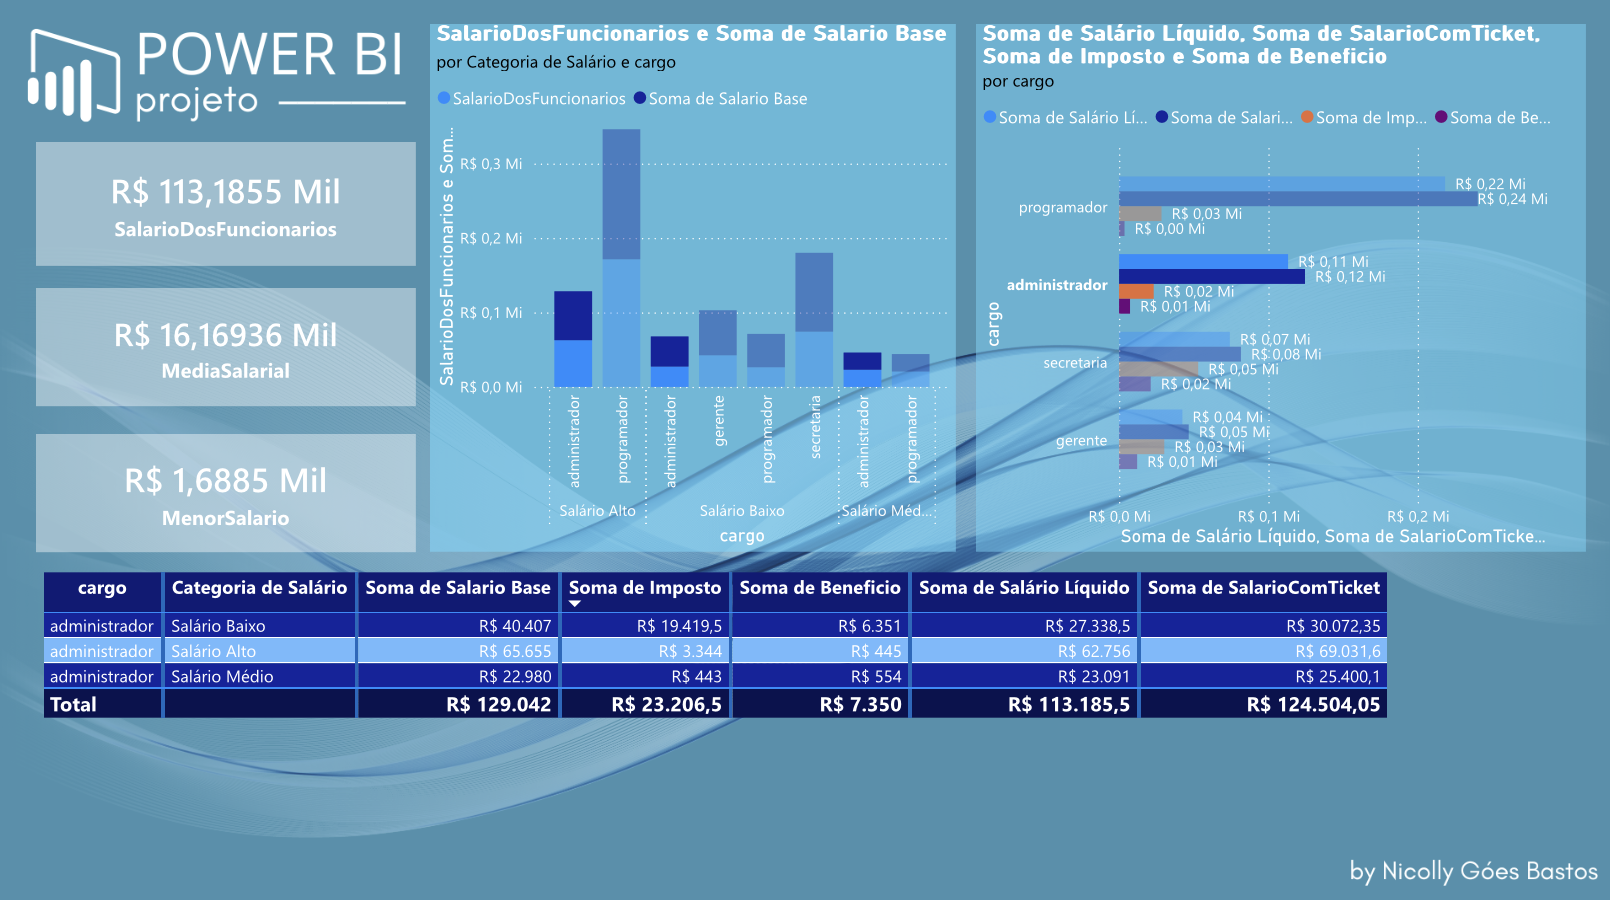

This screenshot's page, from the dashboard's own definition file:
{"tool":"powerbi","page":{"name":"Página 1","canvas":[1280,720],"ordinal":0},"visuals":[{"type":"image","box":[0,0,1280,719.9],"z":0},{"type":"cardVisual","fields":{"Data":["Medidas.SalarioDosFuncionarios"]},"box":[31.6,115.5,300.6,98.1],"z":1000},{"type":"cardVisual","fields":{"Data":["Medidas.MediaSalarial"]},"box":[31.6,231,300.6,93.3],"z":2000},{"type":"cardVisual","fields":{"Data":["Medidas.MenorSalario"]},"box":[31.6,346.5,300.6,93.3],"z":2001},{"type":"columnChart","fields":{"Y":["Medidas.SalarioDosFuncionarios","Sum(FUNCIONARIO.Salario Base)"],"Category":["FUNCIONARIO.Categoria de Salário","FUNCIONARIO.cargo"]},"box":[343.3,22.2,416.1,417.7],"z":2002},{"type":"tableEx","fields":{"Values":["FUNCIONARIO.cargo","FUNCIONARIO.Categoria de Salário","Sum(FUNCIONARIO.Salario Base)","Sum(FUNCIONARIO.Imposto)","Sum(FUNCIONARIO.Beneficio)","Sum(FUNCIONARIO.Salário Líquido)","Sum(FUNCIONARIO.SalarioComTicket)"]},"box":[31.6,450.9,1087,254.7],"z":2003},{"type":"clusteredBarChart","fields":{"Category":["FUNCIONARIO.cargo"],"Y":["Sum(FUNCIONARIO.Salário Líquido)","Sum(FUNCIONARIO.SalarioComTicket)","Sum(FUNCIONARIO.Imposto)","Sum(FUNCIONARIO.Beneficio)"]},"box":[775.3,22.2,482.6,417.7],"z":2004}]}

Visuals, with their boxes in screenshot pixels (x1, y1, x2, y2), scaled from the page's 1280x720 canvas onto the 1610x900 screenshot:
image: region(0, 0, 1609, 899)
cardVisual - Medidas.SalarioDosFuncionarios: region(40, 144, 418, 267)
cardVisual - Medidas.MediaSalarial: region(40, 289, 418, 405)
cardVisual - Medidas.MenorSalario: region(40, 433, 418, 550)
columnChart - Medidas.SalarioDosFuncionarios x Sum(FUNCIONARIO.Salario Base): region(432, 28, 955, 550)
tableEx - FUNCIONARIO.cargo x FUNCIONARIO.Categoria de Salário: region(40, 564, 1407, 882)
clusteredBarChart - FUNCIONARIO.cargo x Sum(FUNCIONARIO.Salário Líquido): region(975, 28, 1582, 550)
